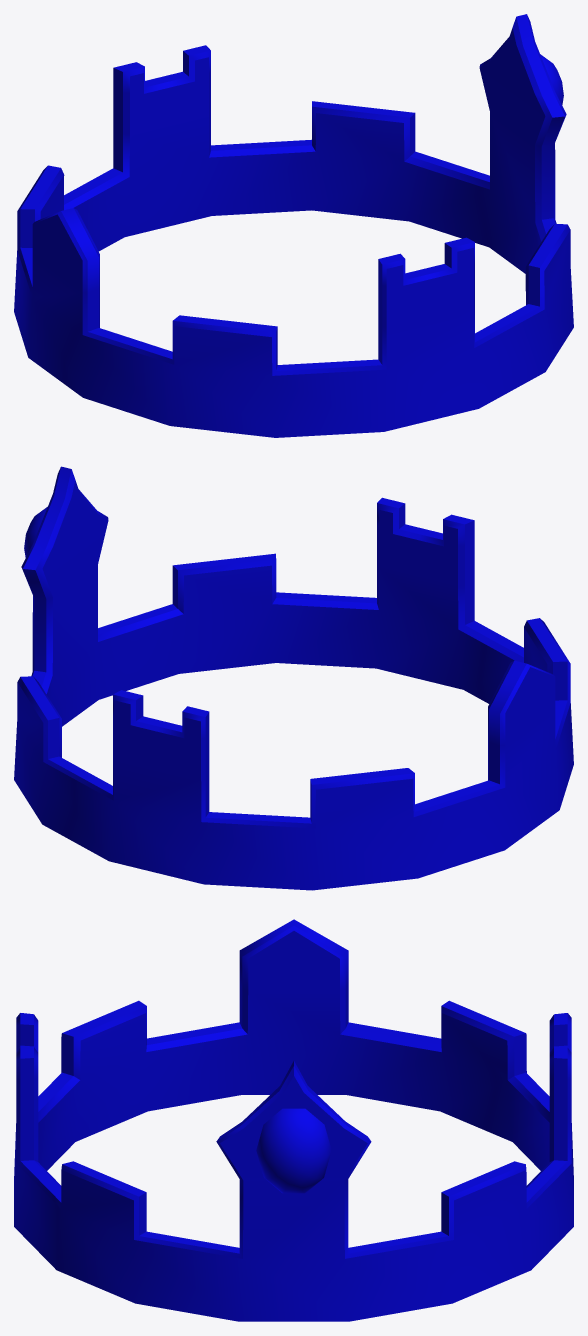
The model's file is Crown.fbx.
3 views of the same model, one above another, from view 1: azimuth 30°, elevation 25°; view 2: azimuth 150°, elevation 25°; view 3: azimuth 270°, elevation 25° (orthographic).
Visible parts, largest first — view 1: Sphere; view 2: Sphere; view 3: Sphere.
Boxes of the visible parts, bbox=[...] form: Sphere: bbox=[14, 14, 573, 437]; Sphere: bbox=[14, 466, 573, 890]; Sphere: bbox=[14, 919, 573, 1321].
Size of the model in its own units: 27.82 by 13.15 by 26.36.
